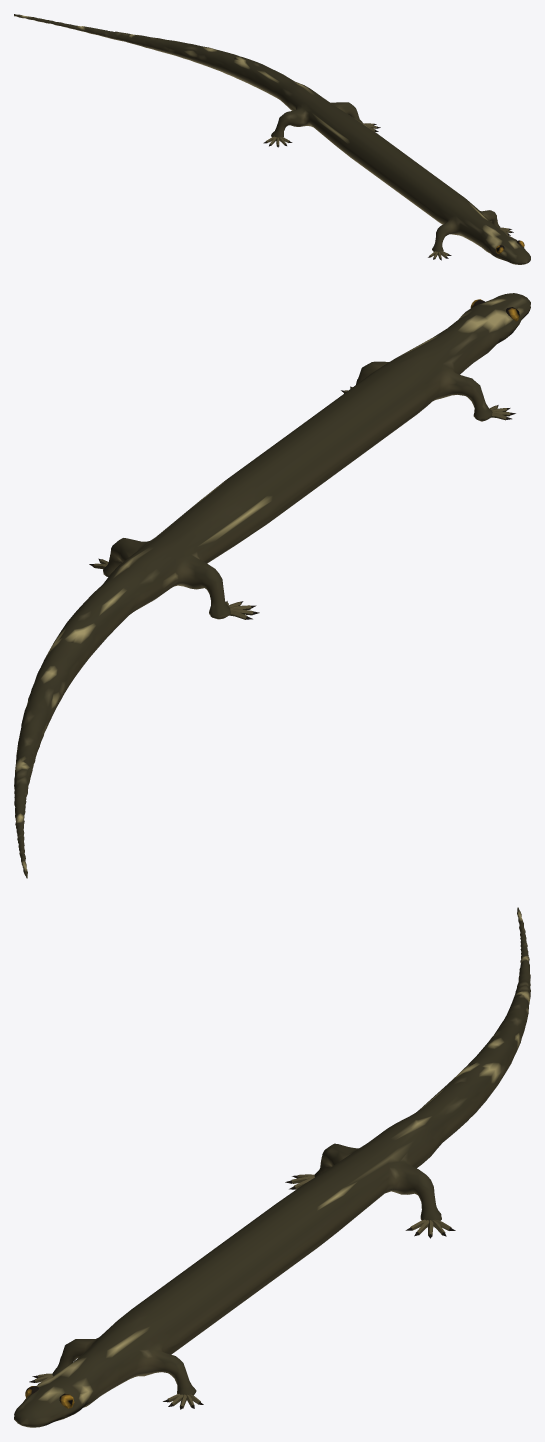
Rendered from Westlothiana.fbx.
3 renders of one model, top to bottom at view 1: azimuth 30°, elevation 25°; view 2: azimuth 150°, elevation 25°; view 3: azimuth 330°, elevation 25°, orthographic. The views are drawn at different scales.
Visible parts, largest first — view 1: Westlothiana; view 2: Westlothiana; view 3: Westlothiana.
Boxes of the visible parts, x1,y1,x2,y2 form: Westlothiana: (14, 14, 530, 264); Westlothiana: (14, 293, 530, 878); Westlothiana: (14, 907, 530, 1427).
Size of the model in its own units: 0.2852 by 0.0595 by 1.21.
